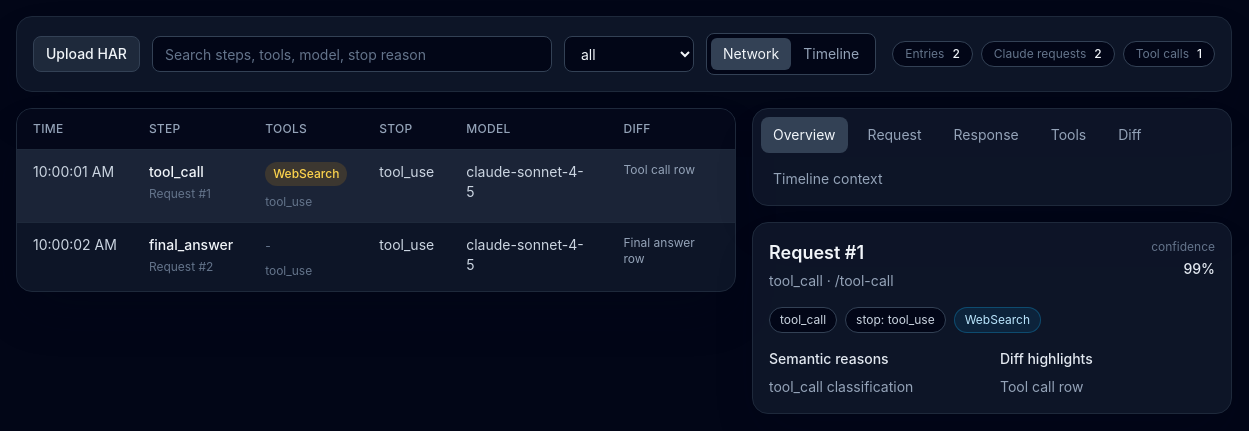
HomePage › updates step filters through the toolbar controls
The image size is (1249, 431).
Select "final_answer" in the dropdown named "Filter by step type" at {"x": 629, "y": 54}, box [564,36,694,72]
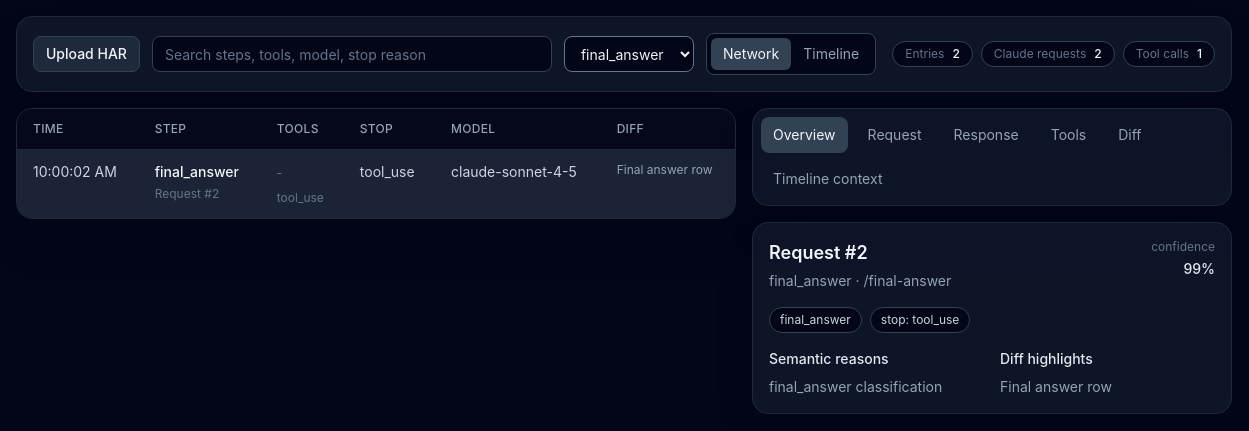
Expected: the list item "Final answer row" in the row of "10:00:02 AM" is shown, [617,162,713,177]
Now the list item "Tool call row" is gone
